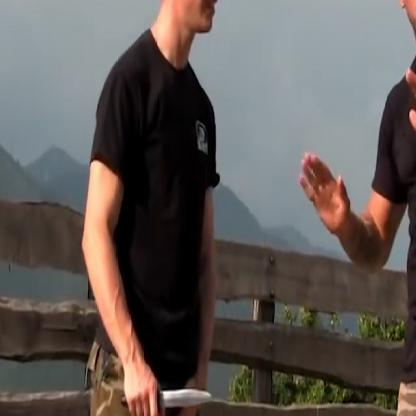knife: (118, 377, 220, 415)
